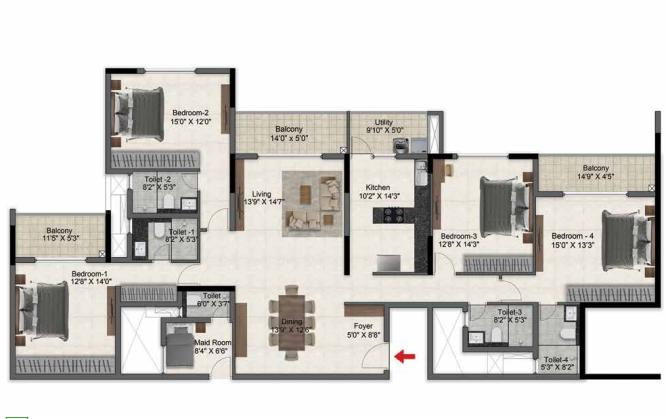Balcony: (232, 111, 351, 157), (10, 213, 107, 261), (538, 156, 655, 189)
Bed: (599, 213, 661, 274), (11, 279, 67, 338), (481, 177, 533, 239), (109, 90, 165, 139), (167, 332, 196, 370)
Bedroom: (535, 193, 656, 305), (107, 68, 236, 169), (13, 258, 120, 377), (432, 153, 535, 274), (164, 320, 234, 376)
Dining Room: (235, 267, 345, 373)
Dining table: (267, 285, 318, 359)
Foyer: (343, 308, 386, 375)
Kitchen: (347, 153, 427, 274)
Living Room: (234, 157, 349, 271)
Sofa: (287, 211, 319, 232), (319, 181, 338, 209)
Wardrobe: (15, 357, 114, 376), (566, 285, 655, 306), (111, 151, 201, 170), (463, 254, 532, 275), (121, 286, 178, 302)
commode: (561, 327, 575, 340), (186, 294, 202, 305), (492, 328, 503, 342), (164, 195, 175, 208), (156, 224, 164, 236)
door: (362, 341, 390, 370), (209, 356, 232, 377), (178, 265, 200, 286), (208, 209, 229, 229), (351, 136, 371, 156), (502, 281, 521, 302), (435, 254, 454, 274), (179, 172, 199, 191), (152, 243, 170, 261), (539, 306, 558, 322), (468, 305, 487, 320)
fridge: (375, 253, 402, 273)
kitchen-slab: (413, 160, 430, 275), (374, 207, 414, 223)
sink: (414, 159, 428, 185), (468, 332, 484, 344), (135, 241, 146, 256), (565, 308, 576, 321), (182, 199, 195, 209)
stove: (385, 207, 403, 221)
toilet: (127, 171, 199, 216), (131, 218, 200, 260), (536, 306, 578, 373), (467, 307, 536, 344), (183, 288, 234, 320)
tv: (234, 158, 246, 232), (433, 160, 443, 232), (106, 284, 116, 334), (221, 85, 231, 134), (535, 216, 543, 273)
utility: (347, 113, 429, 160)
washing-machine: (393, 137, 409, 153)
